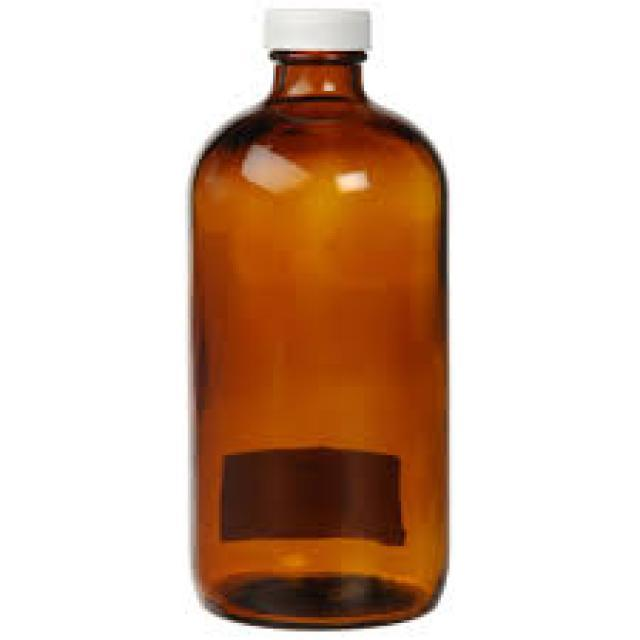Glass: (185, 53, 448, 630)
